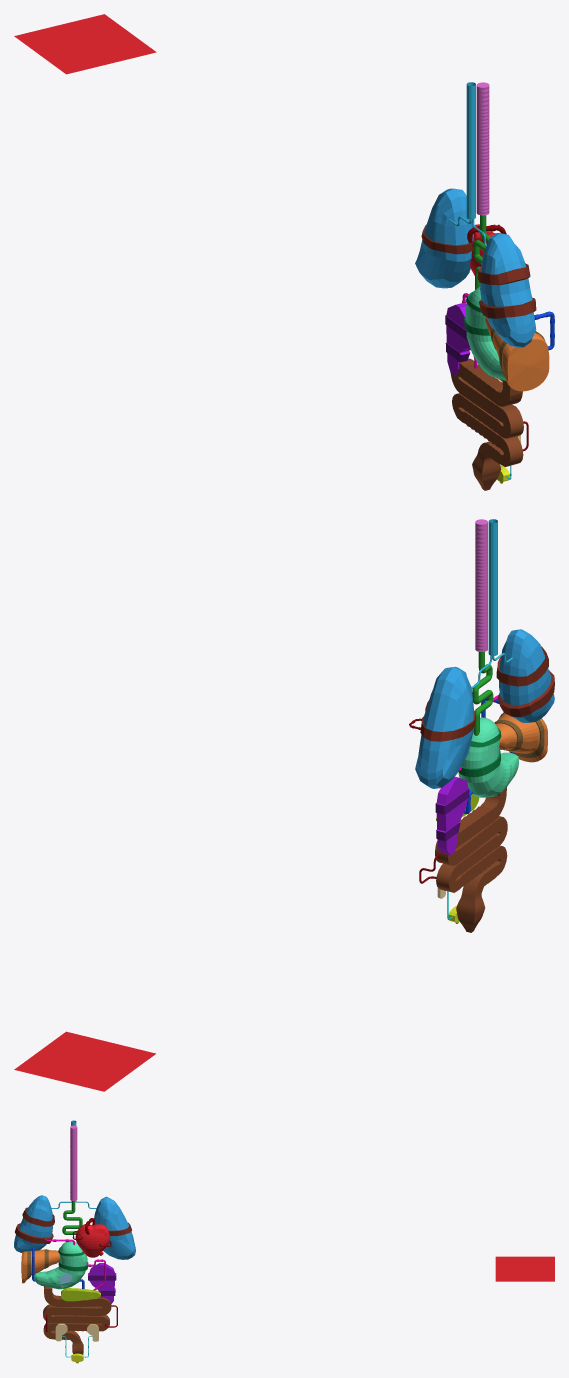
Rendered from OrgansforKevin.fbx.
3 renders of one model, top to bottom at view 1: azimuth 30°, elevation 25°; view 2: azimuth 150°, elevation 25°; view 3: azimuth 270°, elevation 25°, orthographic. The views are drawn at different scales.
Parts seen in each view (by area): view 1: Guts.001, Heart.001, RightLung.001, LeftLung.001, Liver.001, Cylinder.001, Stomach.001, Trachea, Cube.001; view 2: Guts.001, LeftLung.001, Heart.001, RightLung.001, Stomach.001, Cube.001, Liver.001, Cylinder.001, Trachea, EsophagustoStomach; view 3: Guts.001, Heart.001, RightLung.001, LeftLung.001, Stomach.001, Liver.001, Cube.001, Cylinder.001, Pancreas.001, EsophagustoStomach.
Part boxes in pixels (box(x1,y1,x2,y2)): Guts.001: box(450, 358, 523, 490); Heart.001: box(14, 14, 495, 275); RightLung.001: box(477, 233, 536, 347); LeftLung.001: box(415, 188, 474, 288); Liver.001: box(485, 317, 549, 391); Cylinder.001: box(476, 82, 489, 215); Stomach.001: box(464, 287, 506, 380); Trachea: box(466, 82, 475, 219); Cube.001: box(445, 303, 470, 375); Guts.001: box(435, 787, 507, 932); LeftLung.001: box(415, 666, 475, 788); Heart.001: box(14, 700, 428, 1091); RightLung.001: box(496, 629, 554, 722); Stomach.001: box(458, 717, 518, 797); Cube.001: box(435, 776, 469, 855); Liver.001: box(494, 712, 547, 762); Cylinder.001: box(475, 519, 487, 651); Trachea: box(488, 519, 497, 655); EsophagustoStomach: box(472, 652, 493, 735); Guts.001: box(43, 1286, 111, 1354); Heart.001: box(75, 1224, 554, 1281); RightLung.001: box(14, 1195, 54, 1252); LeftLung.001: box(92, 1196, 135, 1259); Stomach.001: box(34, 1241, 88, 1289); Liver.001: box(21, 1249, 60, 1283); Cube.001: box(88, 1263, 116, 1304); Cylinder.001: box(70, 1125, 77, 1200); Pancreas.001: box(61, 1288, 100, 1301); EsophagustoStomach: box(62, 1201, 82, 1234).
Bounding box in the file's own units: 200 × 871 × 1821.
